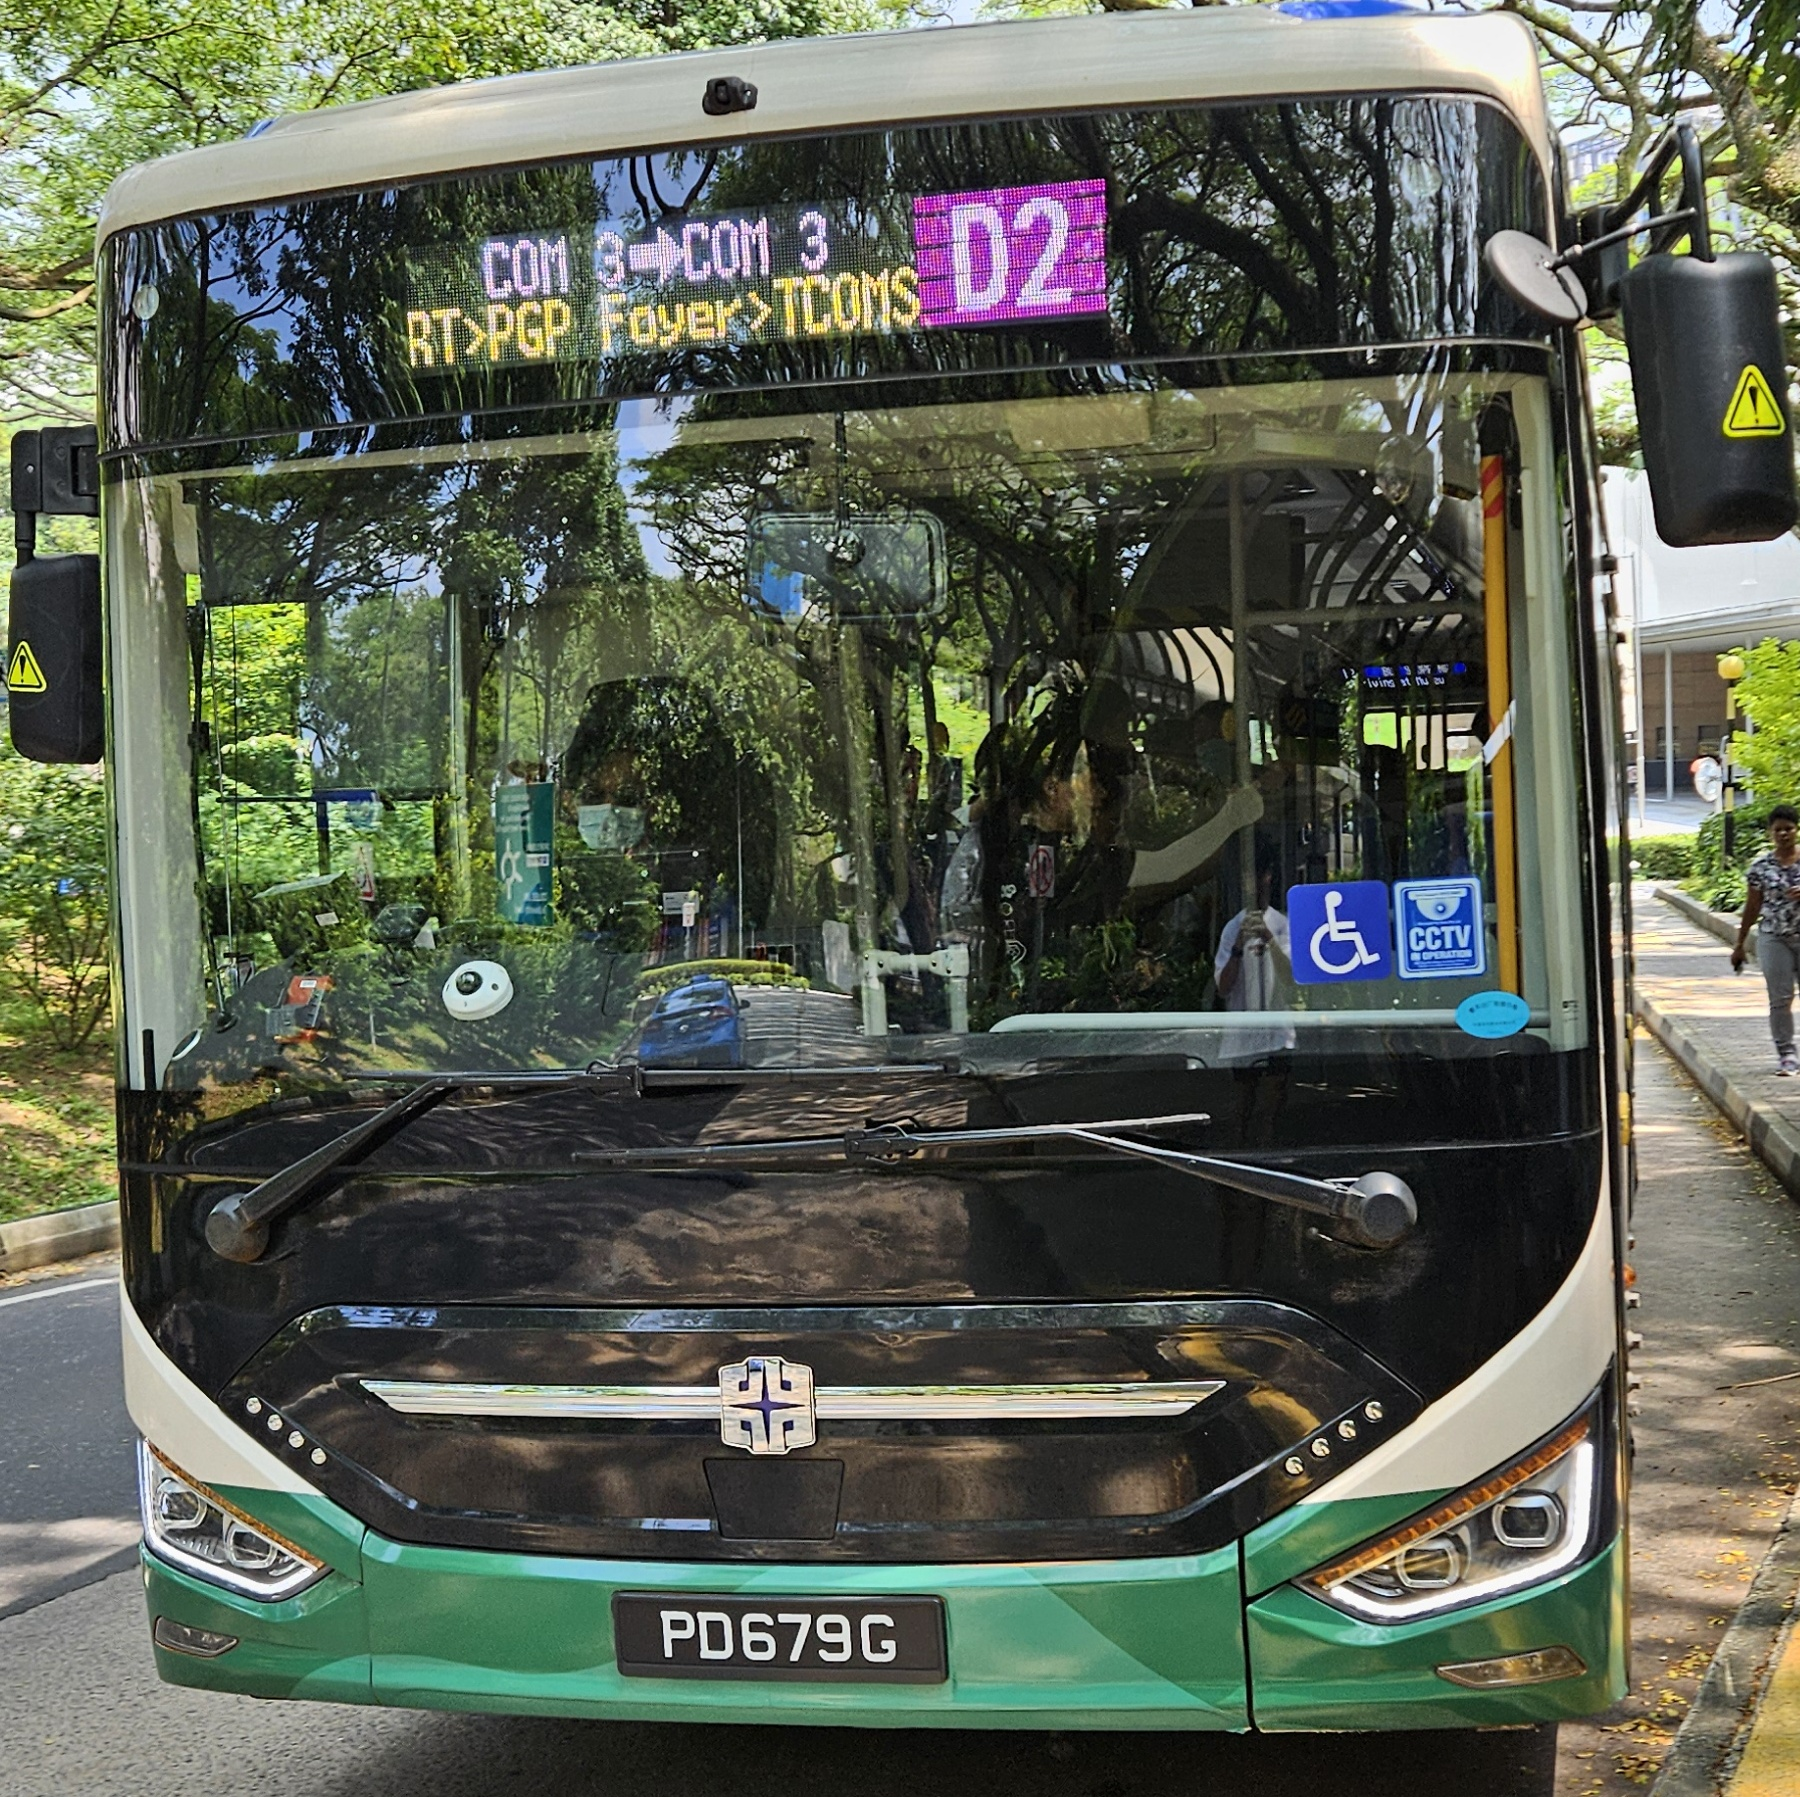bus: (915, 189, 1107, 324)
